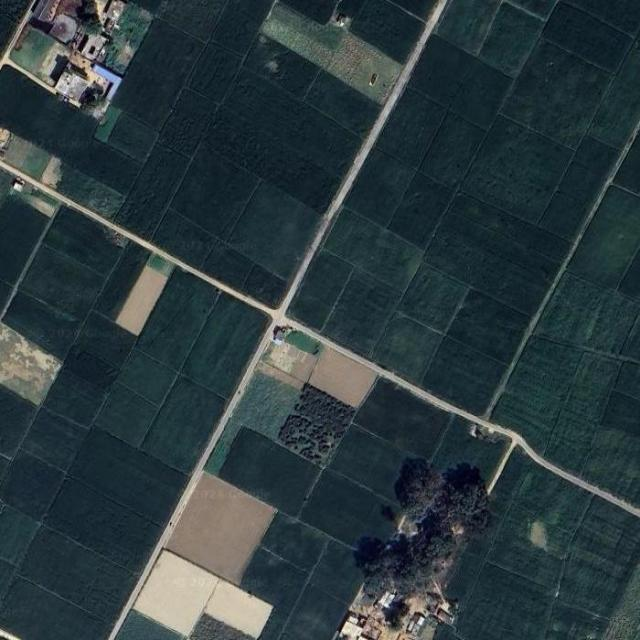land-Sx1C: (0, 67, 140, 192), (205, 107, 339, 209), (224, 71, 360, 171), (426, 213, 558, 314), (166, 473, 276, 584), (502, 41, 610, 147), (465, 118, 571, 222), (70, 430, 186, 524), (19, 527, 134, 621), (46, 479, 161, 571), (114, 19, 202, 129), (494, 339, 580, 451), (206, 371, 299, 474), (559, 499, 640, 617), (219, 427, 319, 514), (184, 294, 266, 397), (230, 184, 319, 278), (549, 353, 618, 473), (536, 275, 640, 353), (138, 270, 218, 368), (324, 210, 422, 289), (142, 379, 224, 472), (355, 380, 450, 458), (173, 147, 256, 236), (134, 550, 219, 636), (456, 565, 551, 640), (570, 187, 640, 287), (453, 195, 561, 259), (0, 578, 109, 640), (301, 471, 391, 544), (119, 145, 189, 237), (486, 505, 562, 589), (324, 269, 399, 354), (422, 338, 505, 413), (241, 545, 307, 639), (278, 384, 355, 464), (544, 4, 631, 71), (449, 290, 529, 362), (21, 247, 102, 318), (330, 426, 406, 498), (325, 33, 402, 103), (429, 416, 509, 483), (378, 89, 445, 167), (345, 150, 413, 226), (0, 321, 61, 405), (45, 209, 120, 275), (290, 251, 353, 329), (590, 49, 640, 147), (5, 293, 79, 358), (306, 71, 380, 135), (540, 162, 602, 238), (479, 4, 544, 76), (421, 113, 485, 186), (350, 0, 424, 62), (389, 174, 451, 248), (374, 315, 441, 383), (400, 266, 467, 331), (520, 469, 587, 534), (247, 36, 318, 97), (0, 198, 49, 283), (0, 451, 62, 518), (451, 58, 511, 127), (267, 0, 348, 51), (585, 429, 640, 504), (309, 346, 376, 407), (259, 15, 337, 67), (410, 36, 469, 104), (96, 244, 149, 319), (205, 580, 273, 638), (22, 409, 86, 469), (96, 384, 156, 447), (279, 585, 346, 639), (160, 90, 215, 154), (261, 514, 325, 569), (116, 265, 167, 334), (436, 0, 500, 54), (104, 4, 153, 74), (44, 370, 105, 426), (311, 541, 362, 607), (154, 211, 214, 267), (76, 313, 136, 368), (213, 0, 272, 53), (120, 350, 175, 404), (602, 562, 640, 639), (190, 44, 240, 102), (158, 0, 226, 39), (0, 385, 36, 457), (566, 0, 640, 34), (107, 114, 158, 162), (202, 242, 253, 288), (66, 347, 118, 389), (0, 506, 36, 564), (546, 606, 606, 640), (115, 610, 185, 639), (491, 451, 529, 499), (446, 551, 481, 603), (244, 265, 286, 306), (189, 614, 255, 639), (602, 393, 640, 436), (575, 138, 618, 174), (615, 133, 640, 193), (87, 181, 125, 218), (58, 165, 94, 204), (280, 0, 337, 24), (262, 341, 301, 373), (258, 361, 302, 389), (94, 105, 122, 142), (619, 250, 640, 298), (21, 145, 50, 178), (4, 135, 33, 168), (615, 362, 640, 399), (547, 524, 573, 559), (289, 351, 318, 382), (509, 0, 556, 19), (391, 0, 436, 19), (622, 314, 640, 361), (285, 330, 320, 354), (40, 156, 62, 188), (146, 254, 175, 276), (27, 196, 56, 217), (0, 560, 14, 603), (529, 520, 547, 549), (1, 169, 14, 207), (338, 0, 365, 18), (129, 0, 162, 14), (435, 626, 462, 640), (1, 280, 11, 312), (1, 455, 10, 482)
